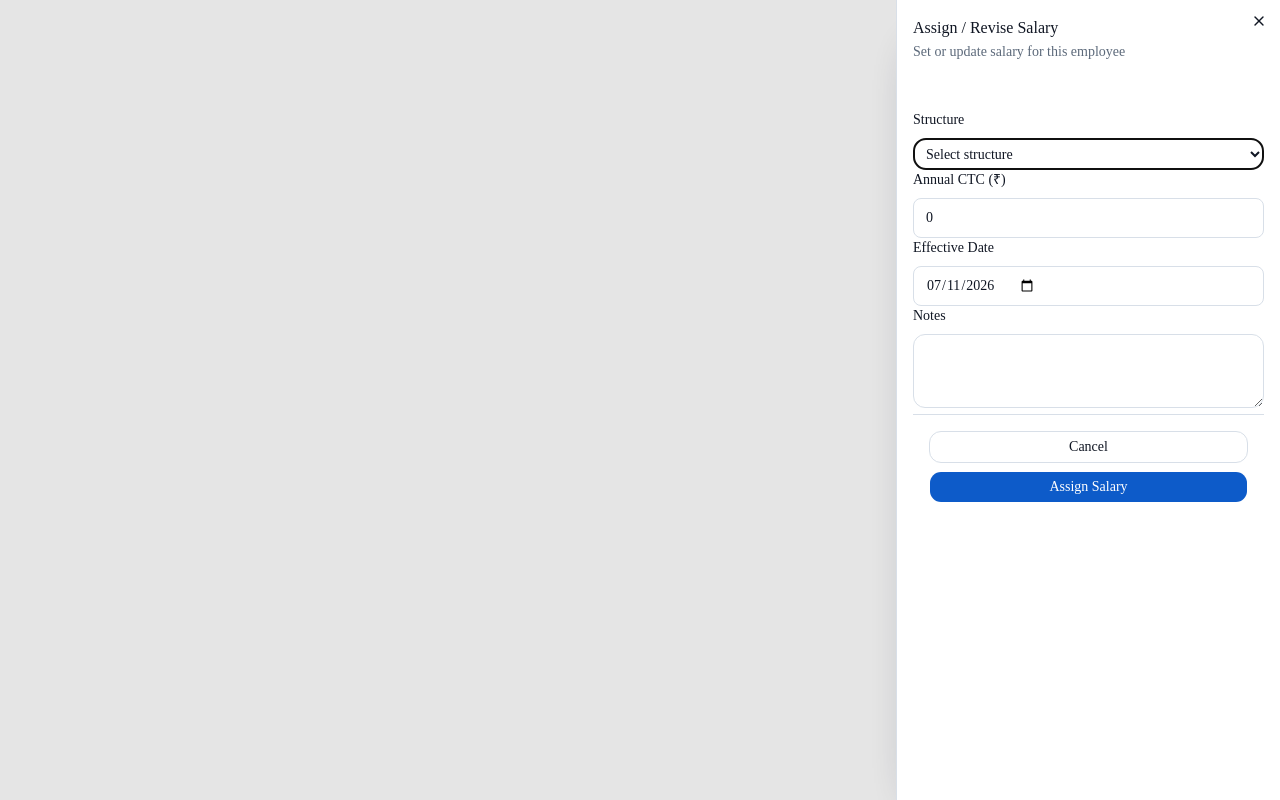
Test: SalaryRevisionDrawer — CTC input validation › shows validation error for negative CTC value (-50,000)
This screenshot has width=1280, height=800.
Check: the form is shown, box [897,94,1279,535]
Select "Standard Full-Time" in the dropdown at coordinates (1088, 154), box [913,138,1264,170]
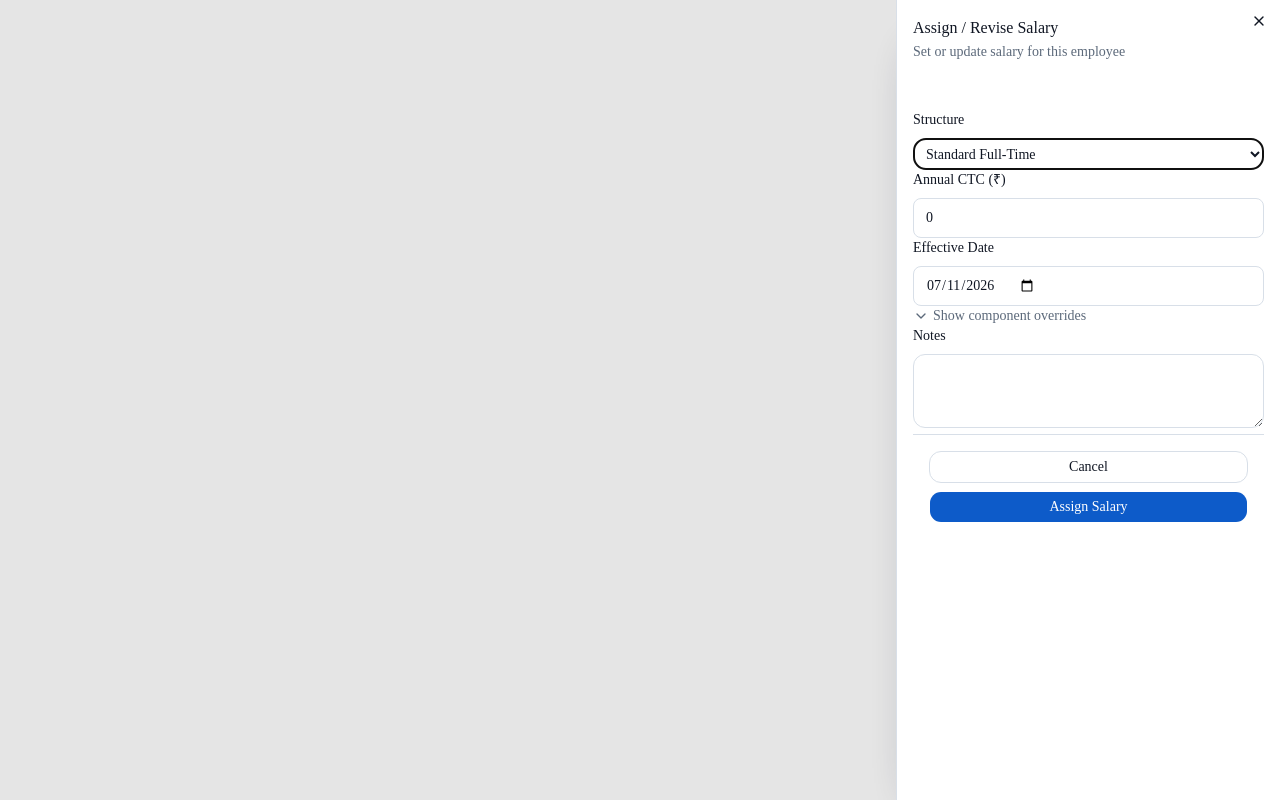
Replace the text in the number field showing "0" with "-50000" at coordinates (1088, 218), box [913,198,1264,238]
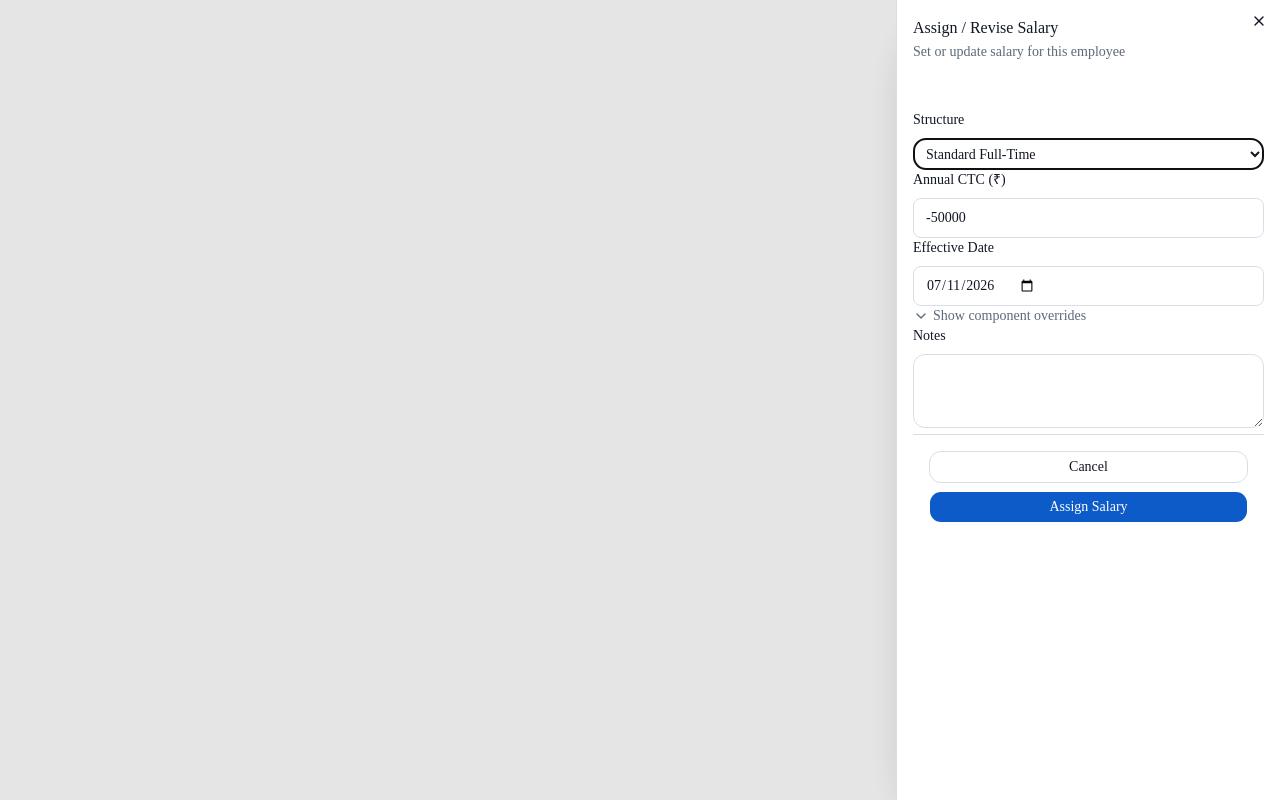
Type "2025-12-01" into the date field labelled "Effective Date" at coordinates (1088, 286), box [913,266,1264,306]
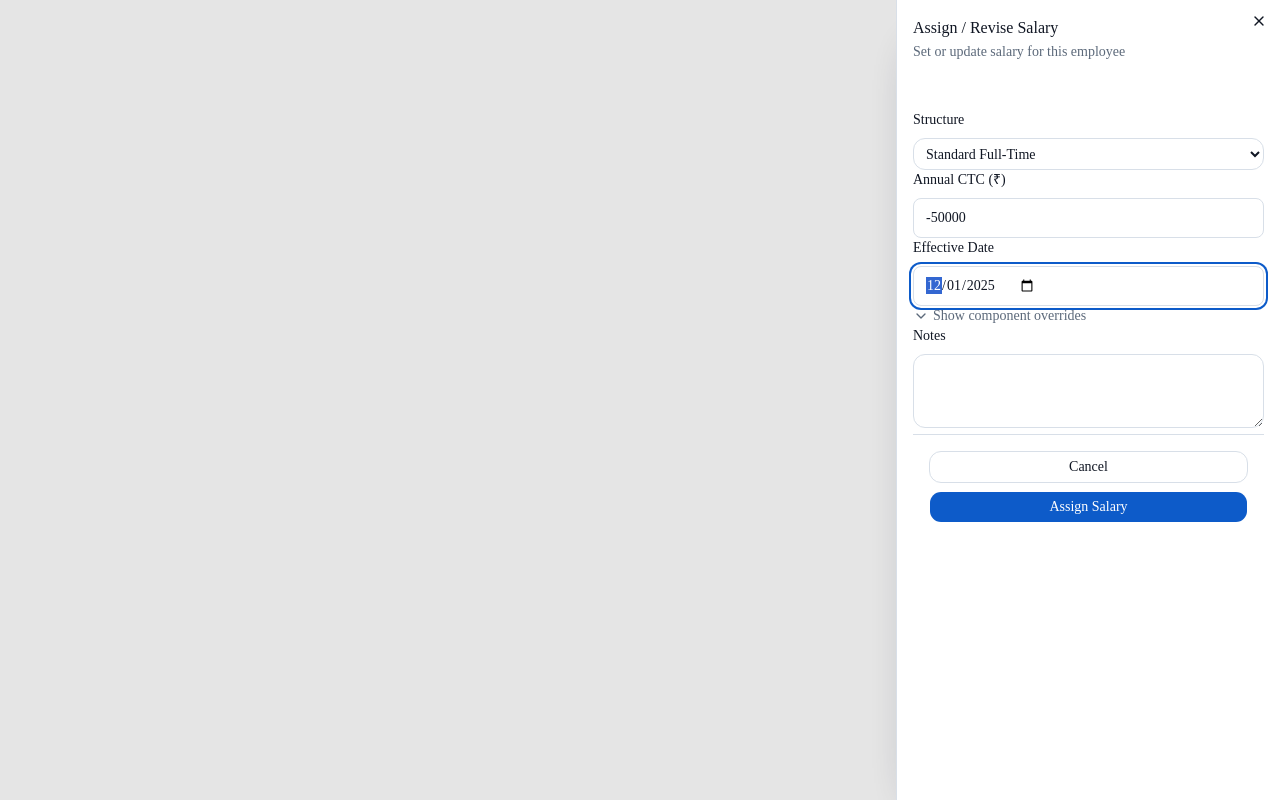
Submit the form, box [897,94,1279,555]
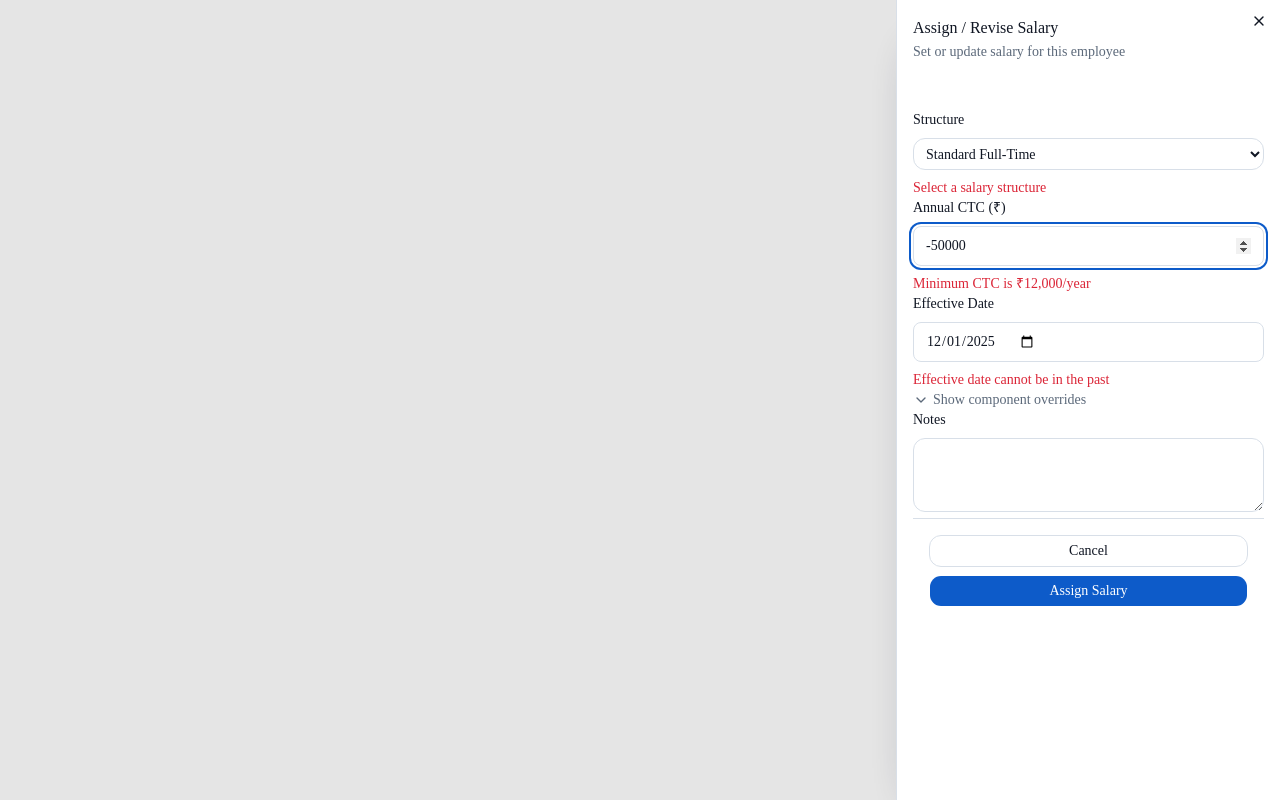
Check: the text "Minimum CTC is ₹12,000/year" is shown, box [913,276,1091,291]
